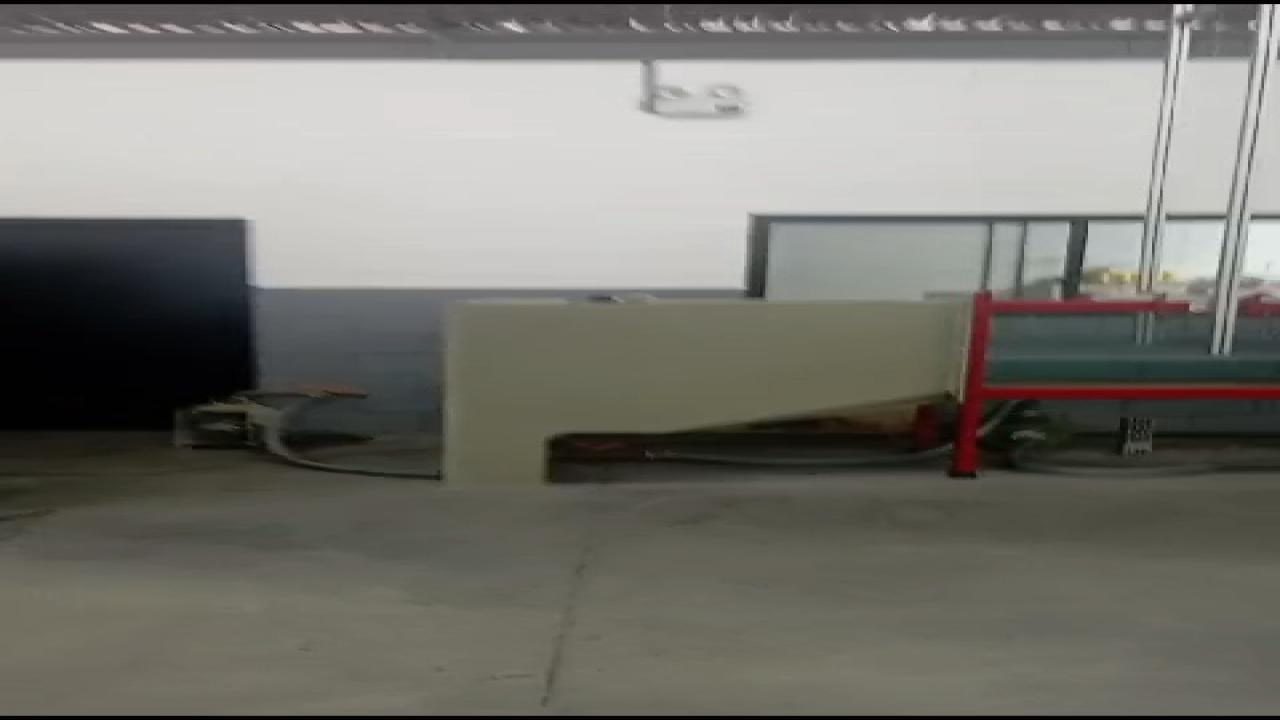Cube: (584, 295, 616, 304)
